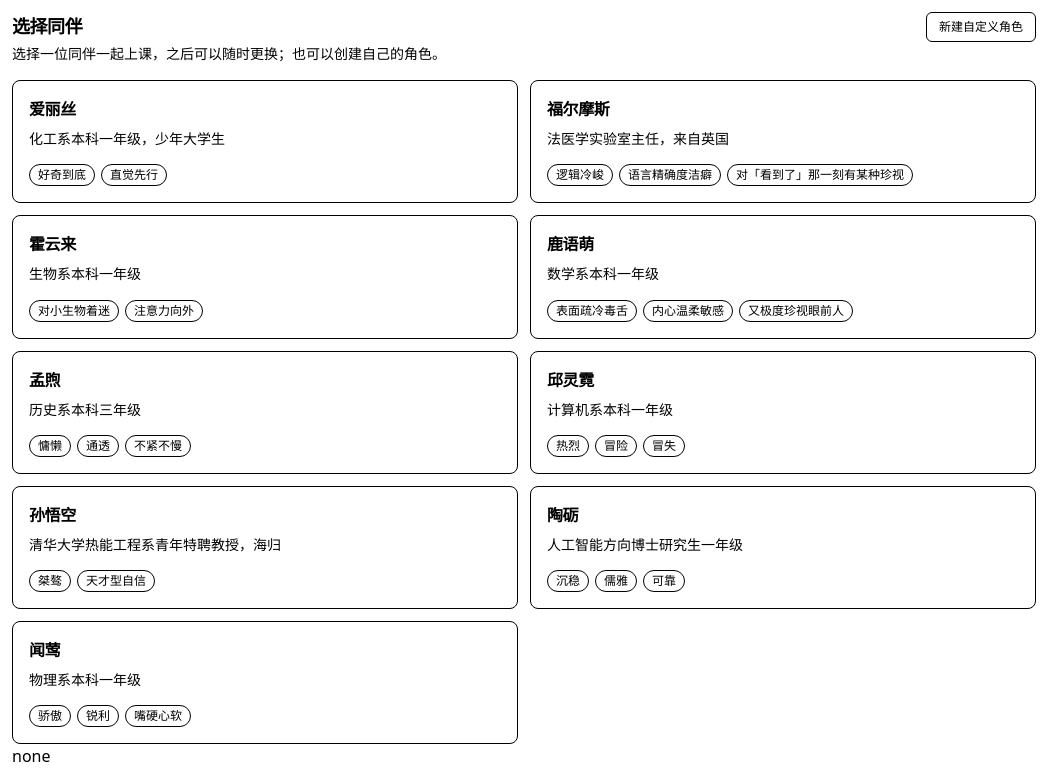
Test: CompanionSelector › falls back to ClassroomContext when no selection props are provided
Click the button "爱丽丝 化工系本科一年级，少年大学生 好奇到底 直觉先行": point(52, 109) [12,80,518,203]
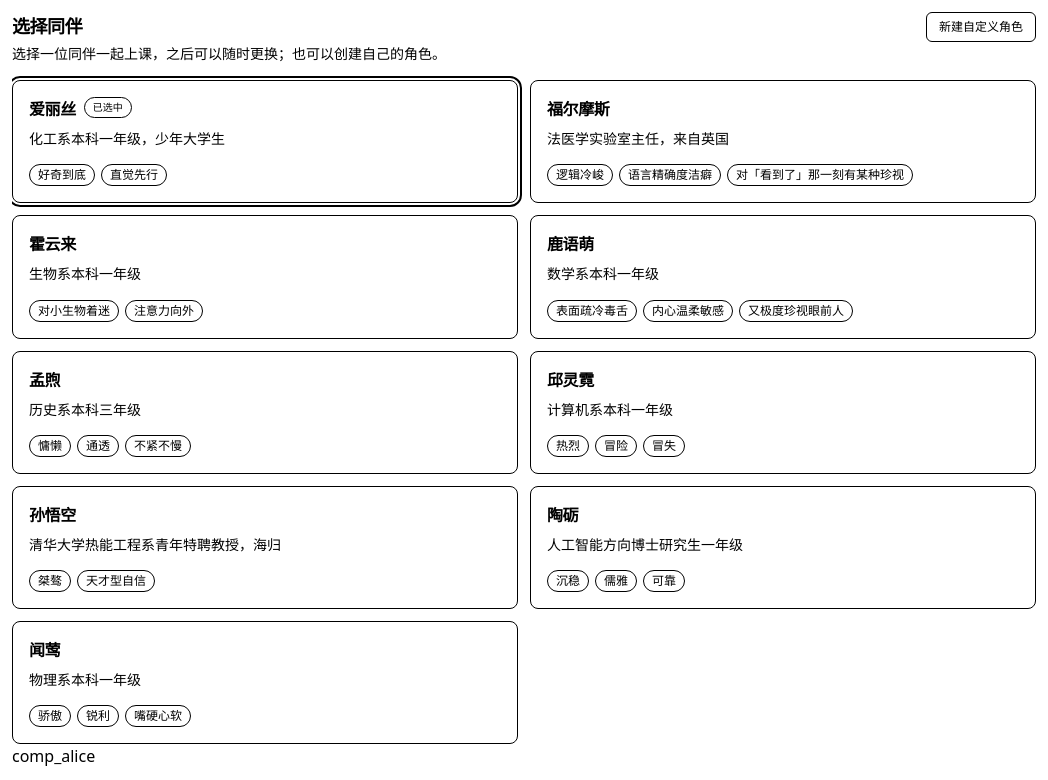
Expected: the text with test id "context-companion" reads "comp_alice", [12,745,95,767]
